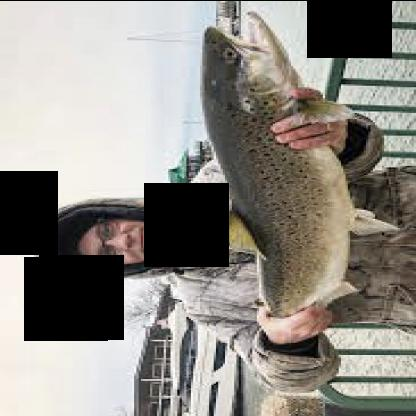fish: (195, 14, 393, 370)
